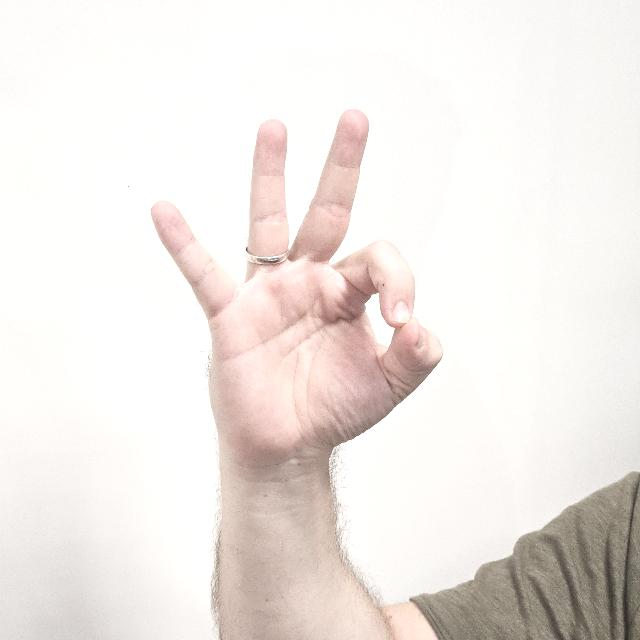Bolinha: (148, 104, 448, 492)
